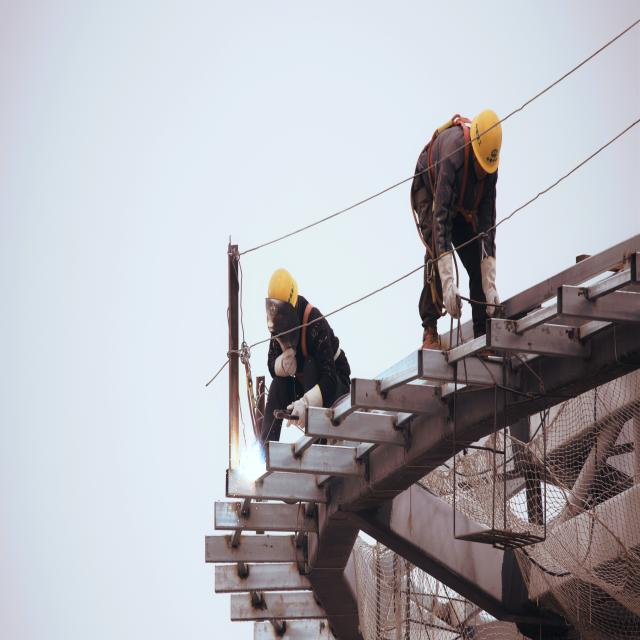helmet: (462, 98, 512, 192), (259, 262, 307, 325)
shoes: (413, 314, 460, 374)
vest: (423, 110, 476, 231)
